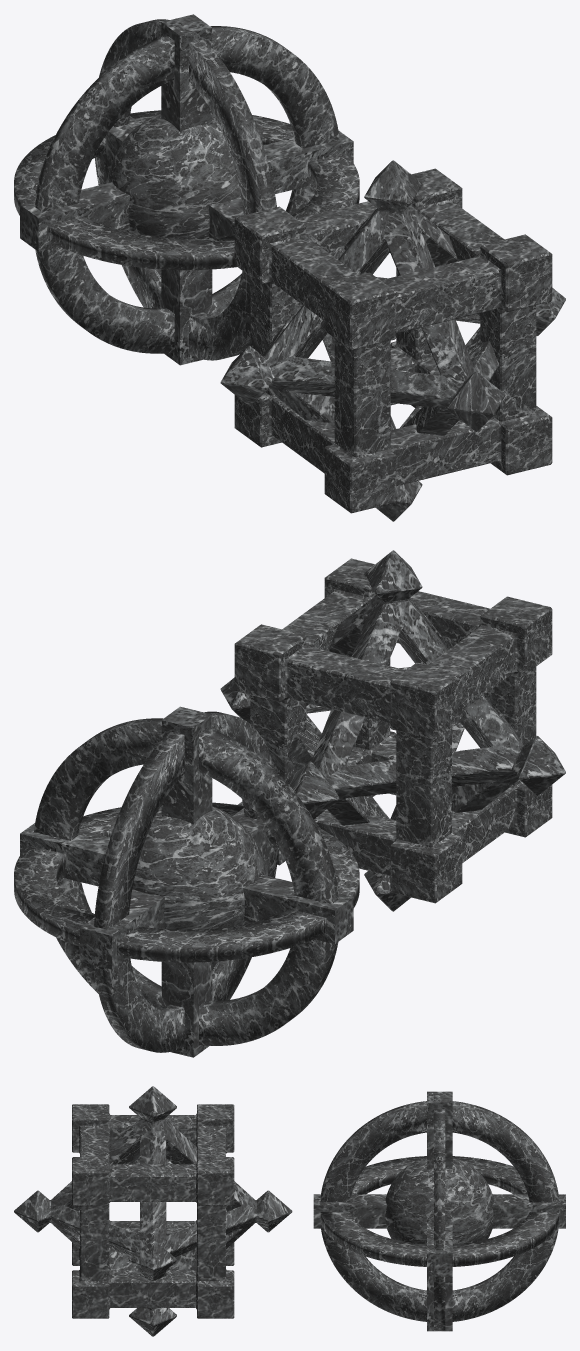
The picture shows the model from 3 angles, top to bottom: view 1: azimuth 30°, elevation 25°; view 2: azimuth 150°, elevation 25°; view 3: azimuth 270°, elevation 25°; orthographic projection. The views are drawn at different scales.
Visible parts, largest first — view 1: rook part.002, core.003; view 2: core.003, rook part.002; view 3: core.003, rook part.002.
Boxes of the visible parts, x1,y1,x2,y2 form: rook part.002: (220, 160, 565, 521); core.003: (14, 14, 359, 365); core.003: (14, 706, 359, 1057); rook part.002: (220, 550, 565, 911); core.003: (313, 1091, 565, 1331); rook part.002: (14, 1086, 292, 1336).
Bounding box in the file's own units: 4.59 × 4.59 × 9.18.
1 material, 1 textured.
